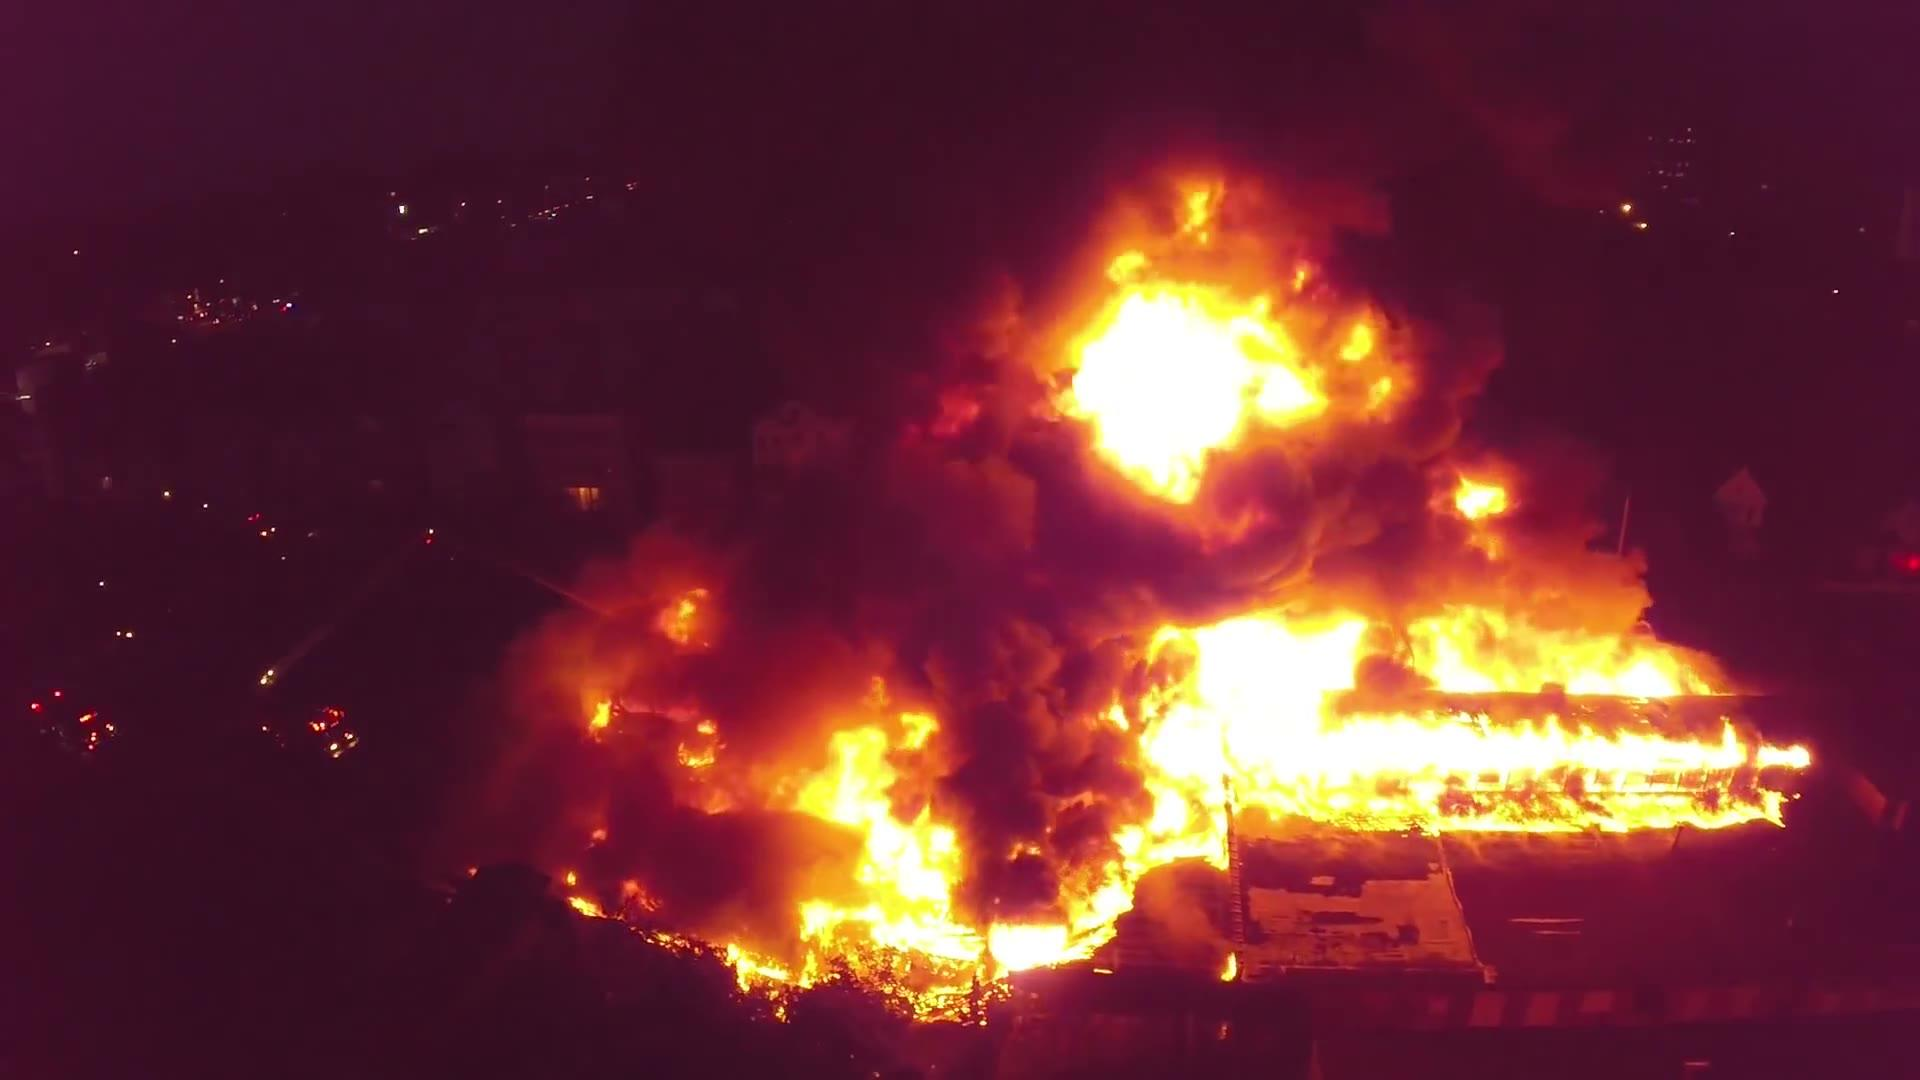fire: (1150, 628, 1722, 847), (1076, 266, 1282, 491)
smoke: (833, 454, 1068, 647)
